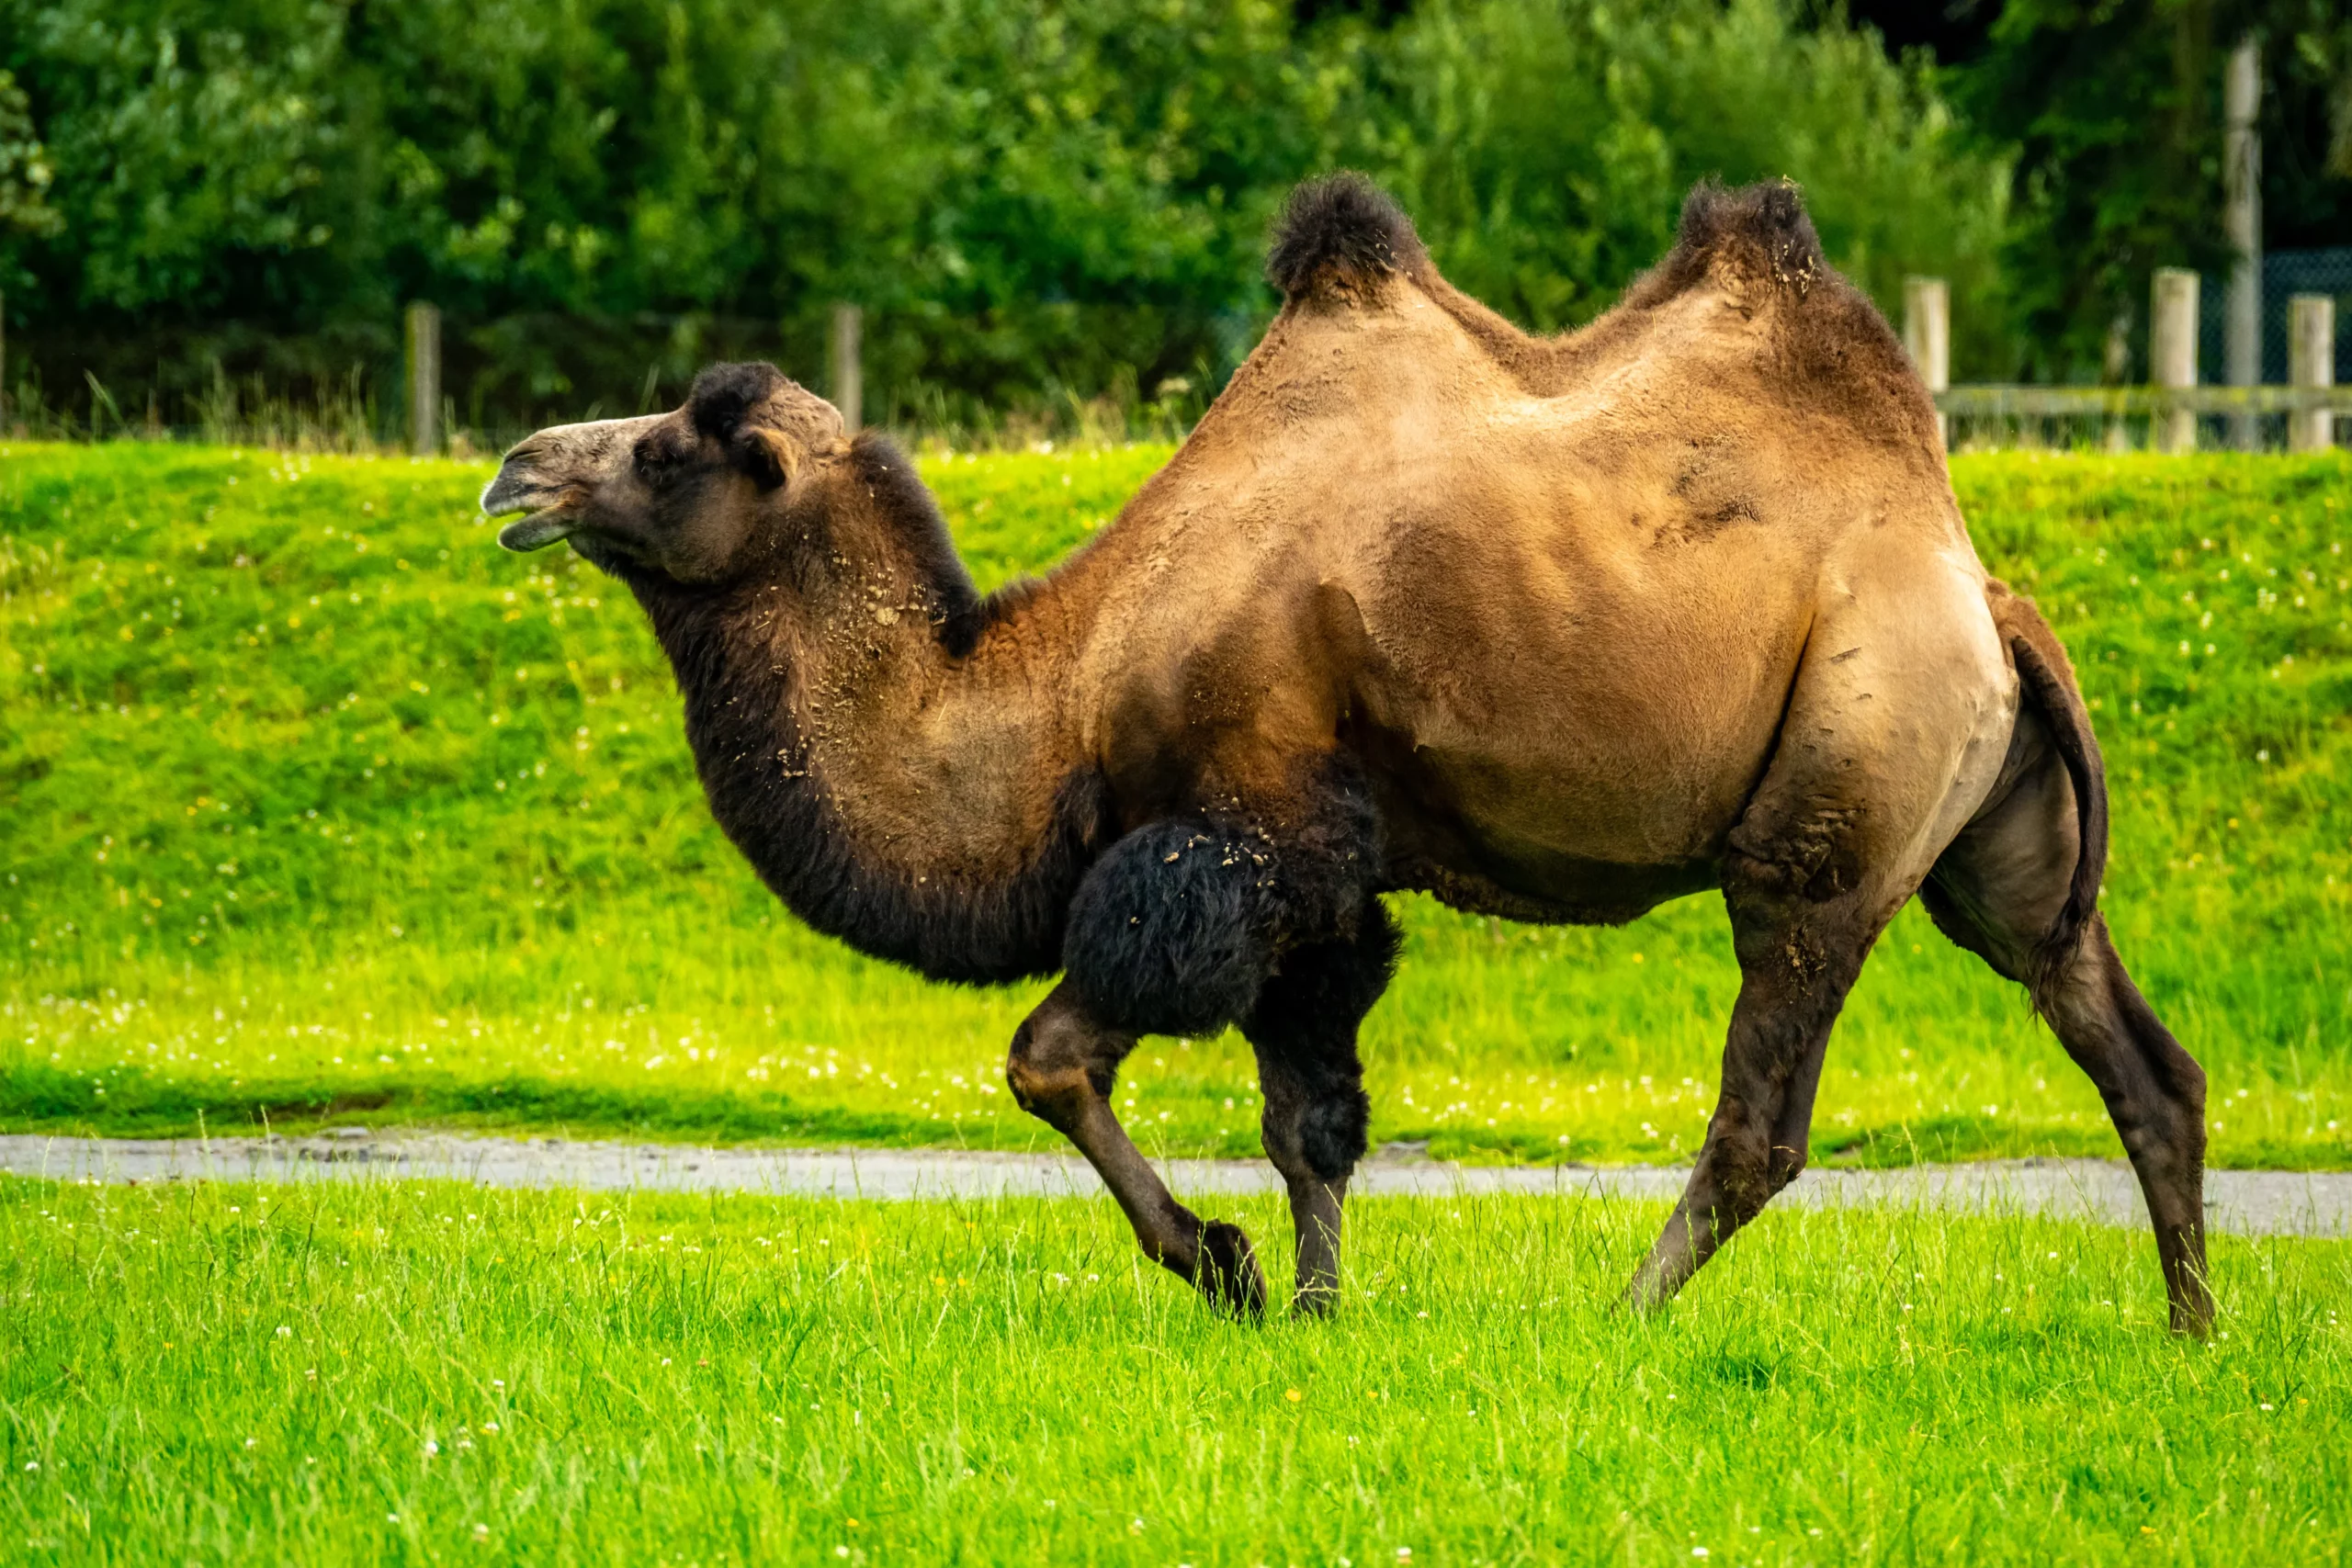camel: (486, 175, 2249, 1407)
